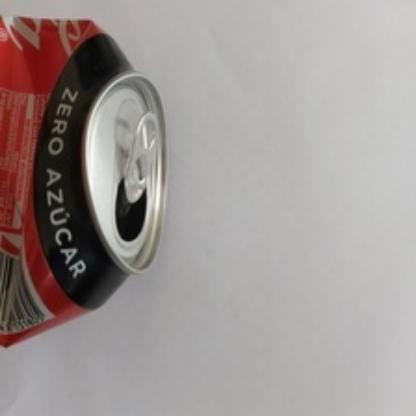Can: (0, 18, 166, 352)
